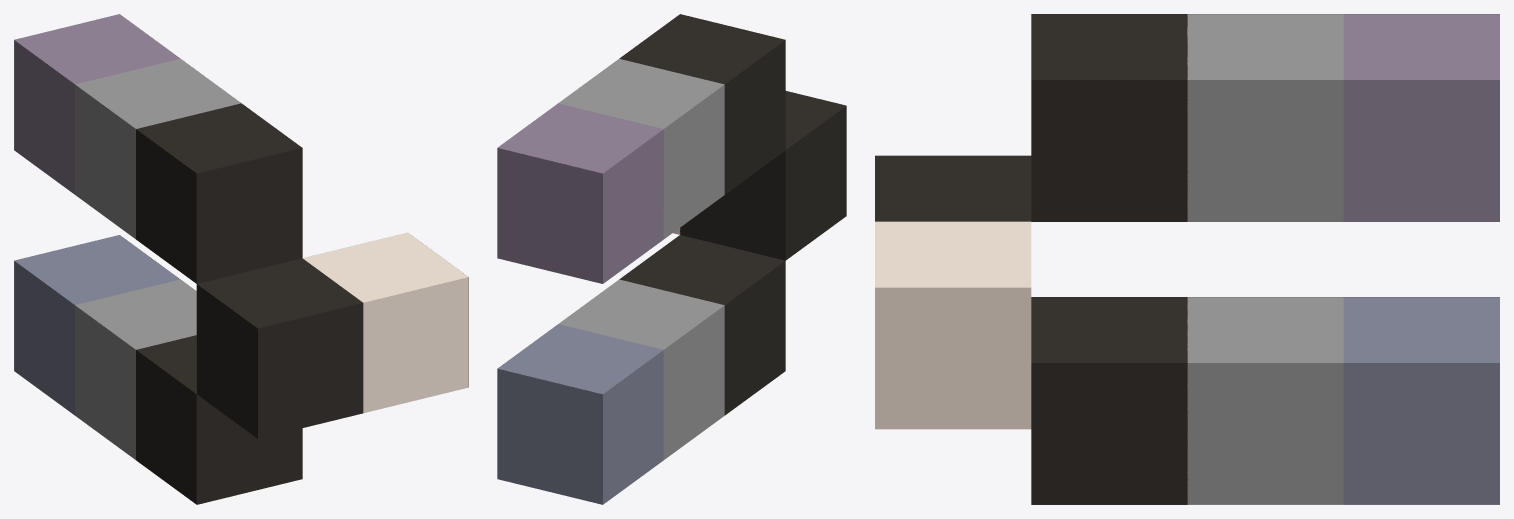
The model's file is Shaman Weapon.obj.
The picture shows the model from 3 angles, left to right: view 1: azimuth 30°, elevation 25°; view 2: azimuth 150°, elevation 25°; view 3: azimuth 270°, elevation 25°; orthographic projection. The views are drawn at different scales.
Visible parts, largest first — view 1: Shaman Weapon; view 2: Shaman Weapon; view 3: Shaman Weapon.
Boxes of the visible parts, <box> form: Shaman Weapon: <box>14,14,468,504</box>; Shaman Weapon: <box>497,14,846,504</box>; Shaman Weapon: <box>875,14,1499,504</box>.
Size of the model in its own units: 2 by 3 by 4.
Materials: 1 (1 with a texture image).
